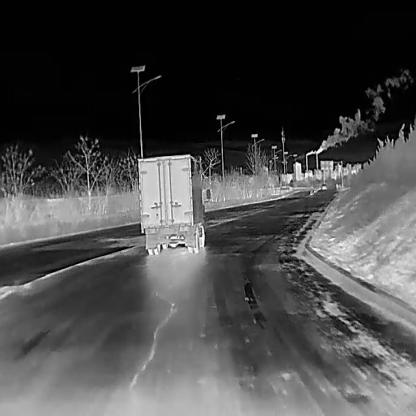car: (320, 183, 326, 188)
truck: (136, 154, 210, 254)
